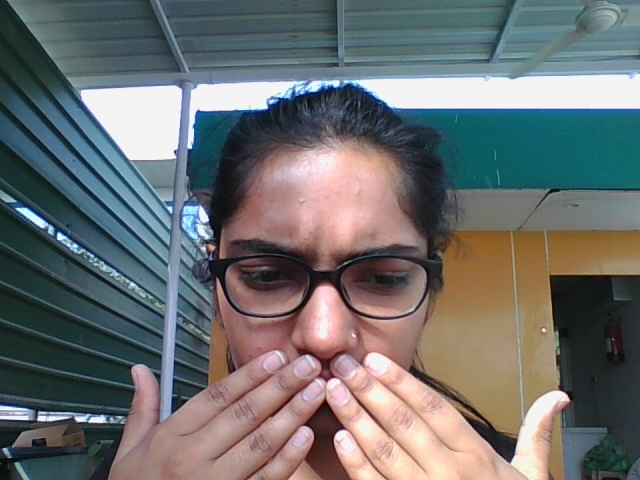thankyou: (120, 351, 573, 480)
